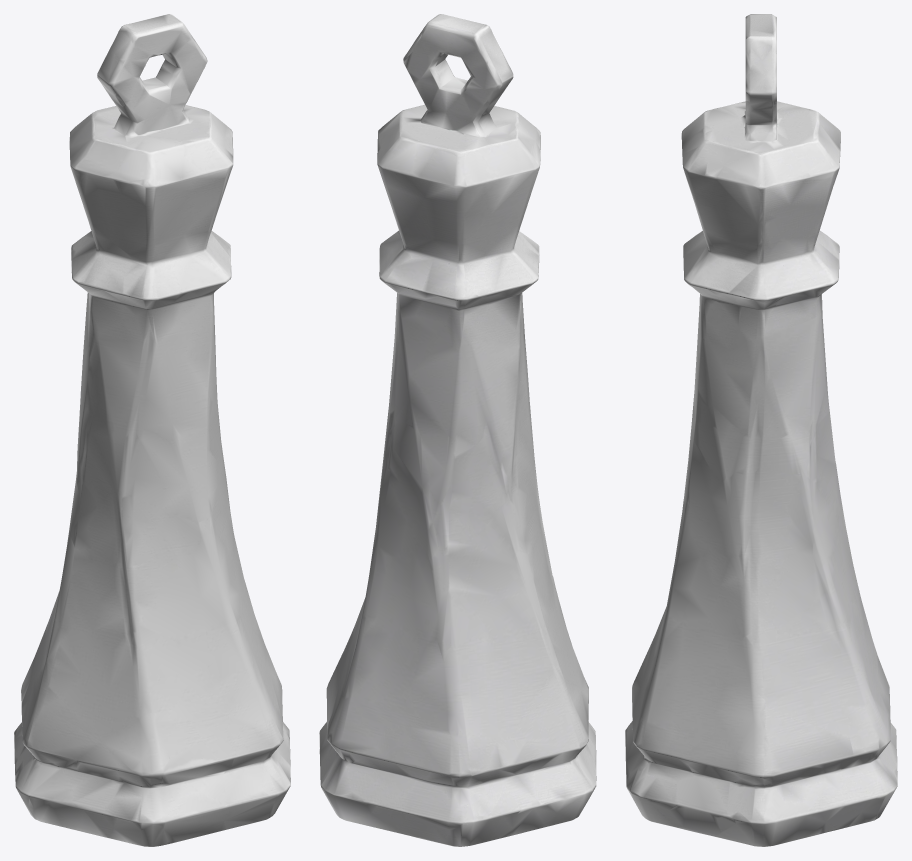
The model's file is king-white.glb.
3 views of the same model, side by side, from view 1: azimuth 30°, elevation 25°; view 2: azimuth 150°, elevation 25°; view 3: azimuth 270°, elevation 25° (orthographic).
Bounding box in the file's own units: 0.5823 × 1.6 × 0.5171.
Materials: 1 (1 with a texture image).
